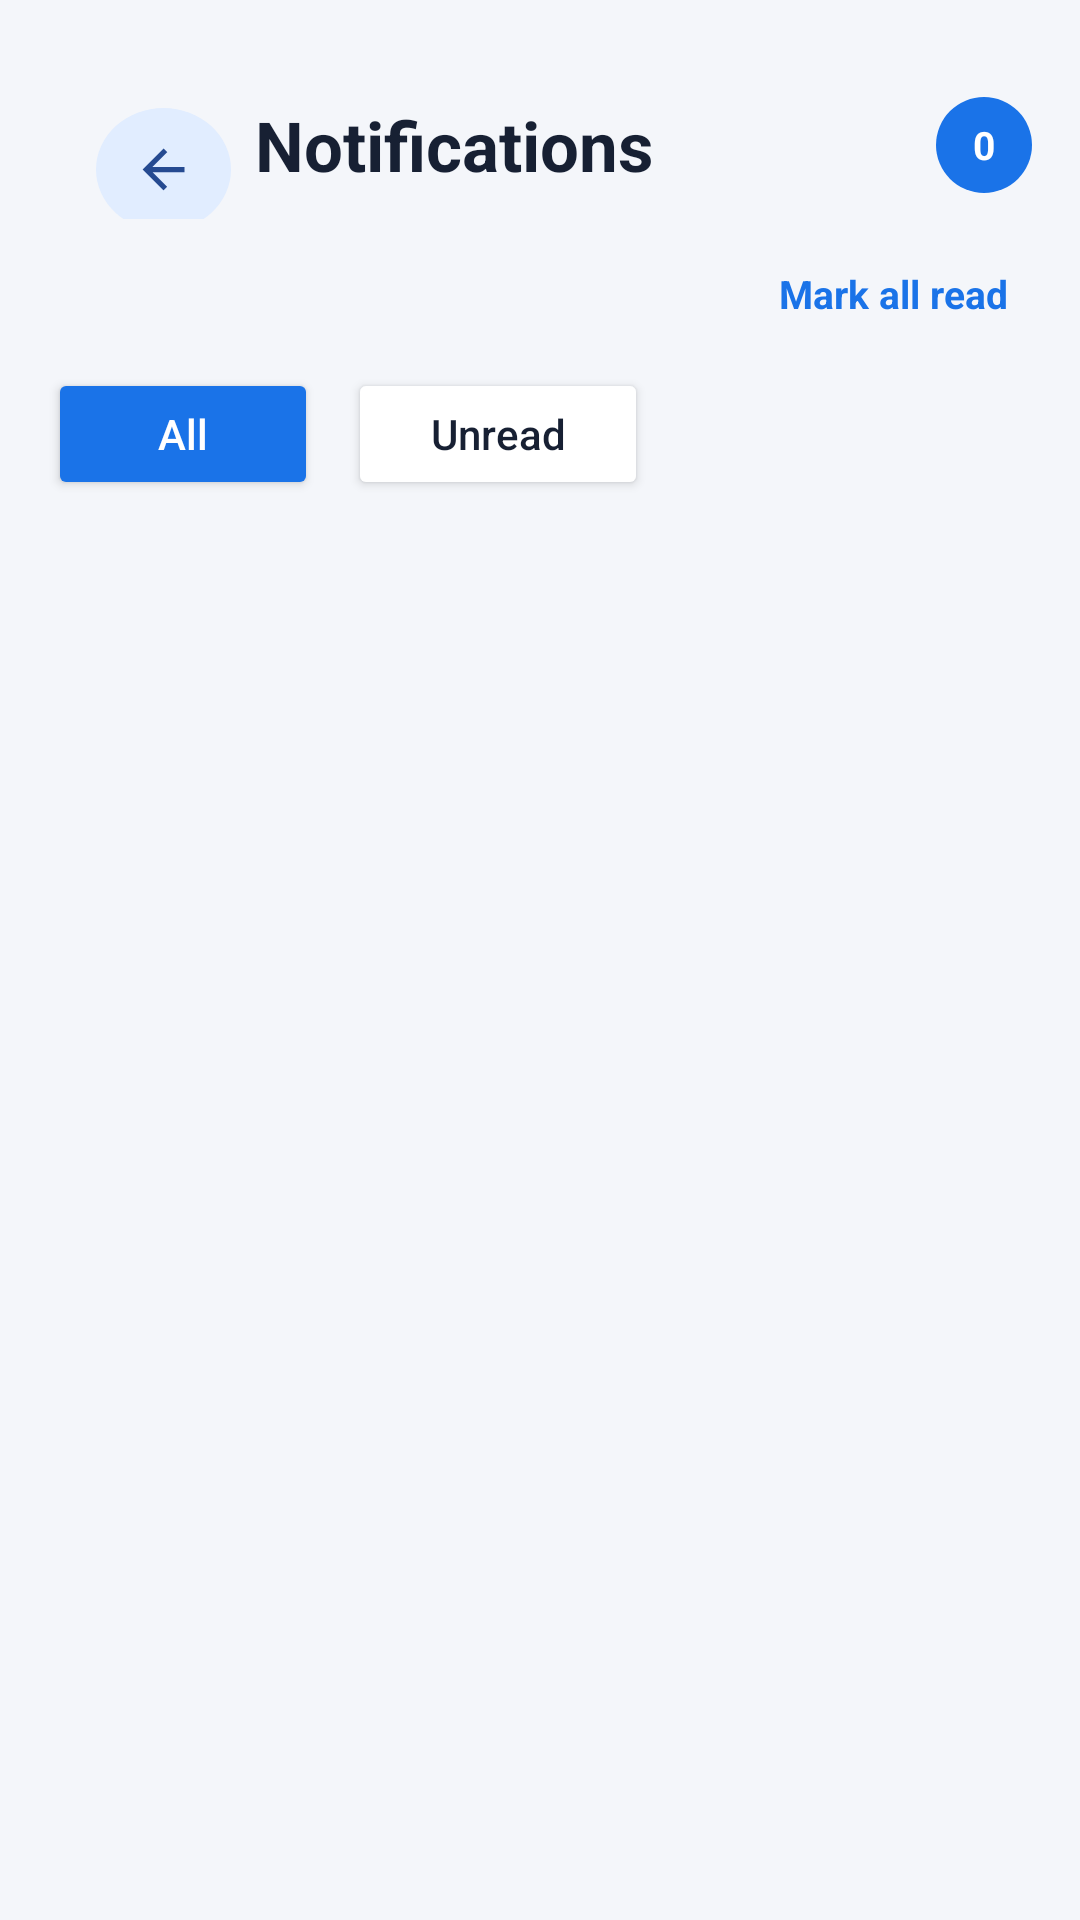

Named icons in this screenshot (1080px x 1920px) and their centers, (x,y):
Back: (163,163)
